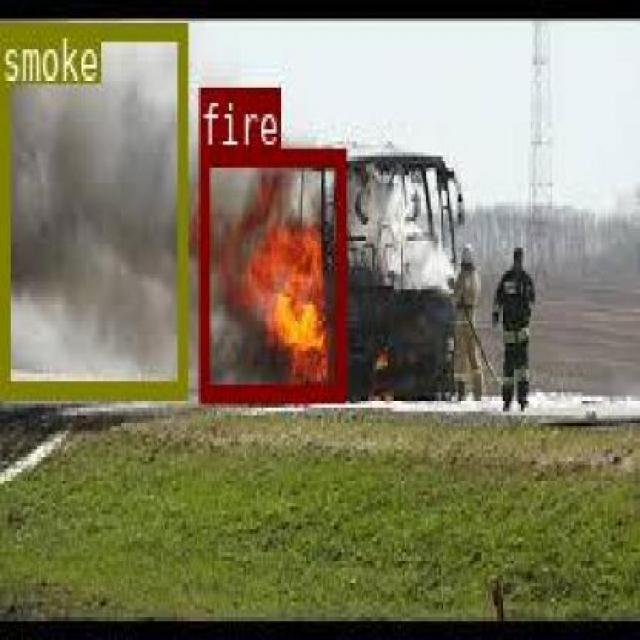Fire: (198, 146, 344, 400)
Smoke: (1, 19, 184, 396)
